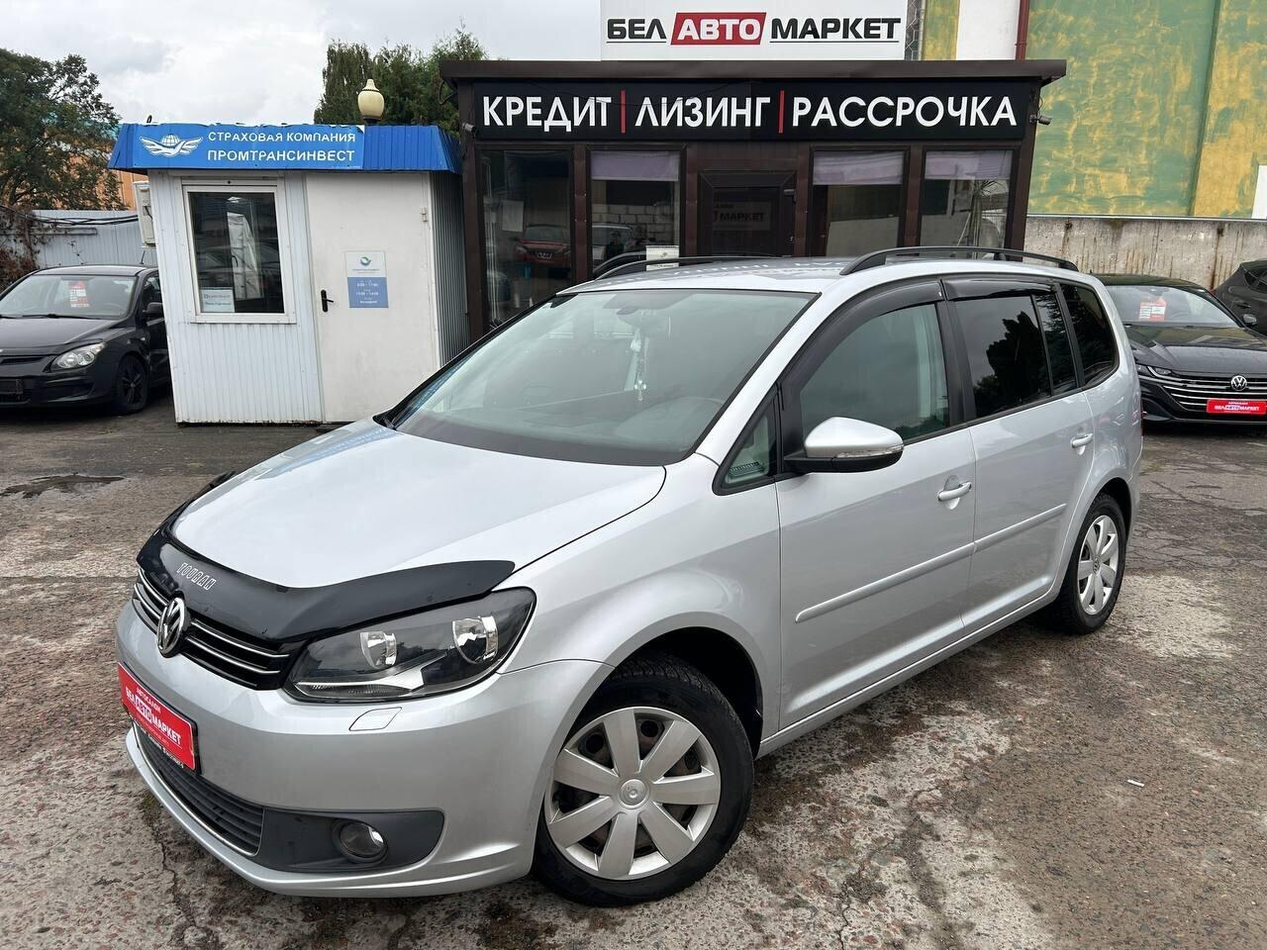Touran_2010-2015: (99, 249, 1145, 910)
